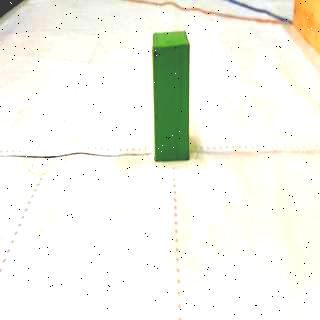greenbox: (152, 31, 190, 162)
